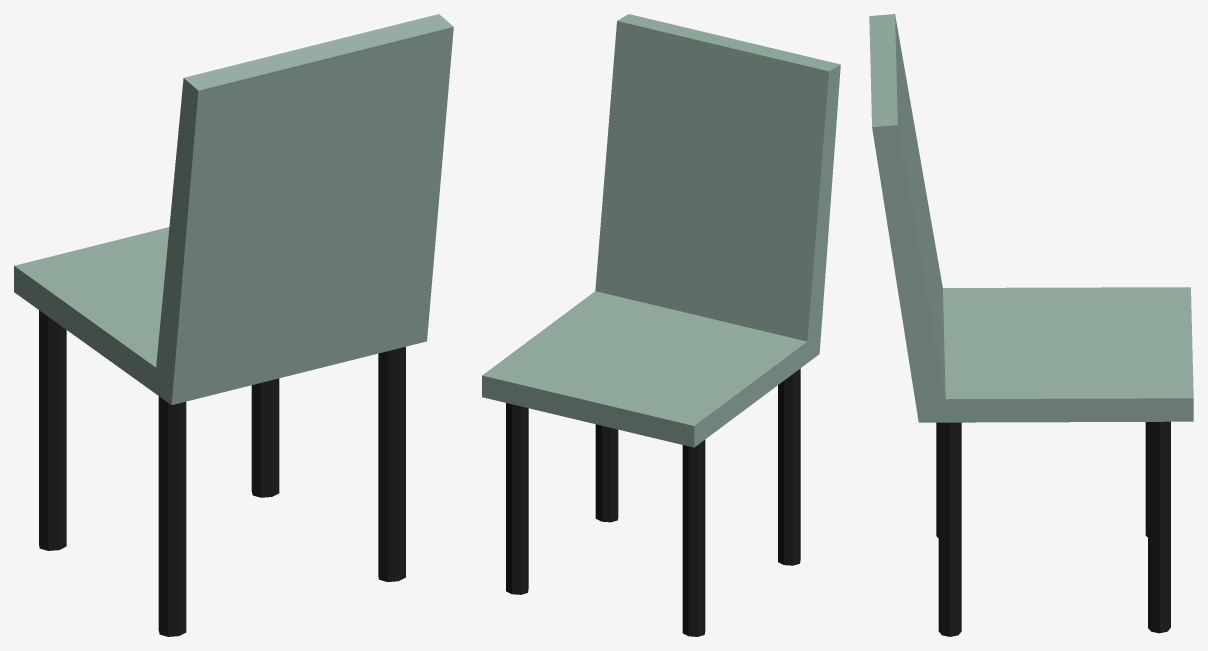
The model's file is chair.fbx.
The picture shows the model from 3 angles, left to right: view 1: azimuth 30°, elevation 25°; view 2: azimuth 150°, elevation 25°; view 3: azimuth 270°, elevation 25°; orthographic projection. The views are drawn at different scales.
Parts seen in each view (by area): view 1: pCube18, pCylinder31, pCylinder32, pCylinder30, pCylinder29; view 2: pCube18, pCylinder30, pCylinder29, pCylinder31, pCylinder32; view 3: pCube18, pCylinder32, pCylinder29.
Part boxes in pixels (left/top/right/bottom): pCube18: left=14, top=14, right=453, bottom=405; pCylinder31: left=158, top=396, right=186, bottom=636; pCylinder32: left=378, top=346, right=405, bottom=581; pCylinder30: left=39, top=310, right=66, bottom=550; pCylinder29: left=251, top=378, right=279, bottom=497; pCube18: left=482, top=14, right=840, bottom=447; pCylinder30: left=682, top=440, right=705, bottom=636; pCylinder29: left=506, top=403, right=528, bottom=594; pCylinder31: left=778, top=368, right=800, bottom=565; pCylinder32: left=595, top=424, right=618, bottom=522; pCube18: left=869, top=14, right=1193, bottom=422; pCylinder32: left=938, top=422, right=961, bottom=636; pCylinder29: left=1148, top=421, right=1170, bottom=633.
Size of the model in its own units: 45.83 by 97.77 by 55.94.
